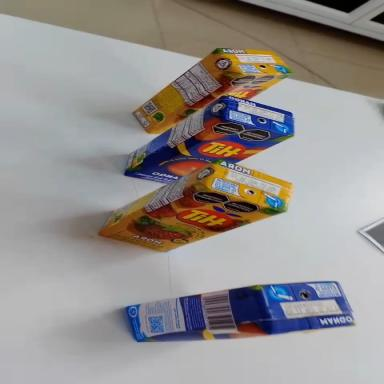HIT-MANGO: (112, 73, 300, 208), (125, 275, 354, 351)
HIT-MORA: (90, 141, 300, 270), (126, 23, 291, 153)
cara_F: (95, 166, 284, 271), (122, 97, 293, 209), (150, 53, 292, 153)
